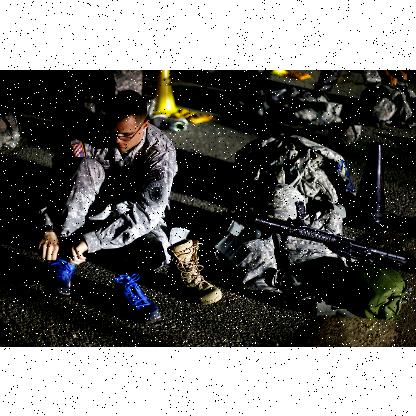gun: (253, 202, 412, 270)
